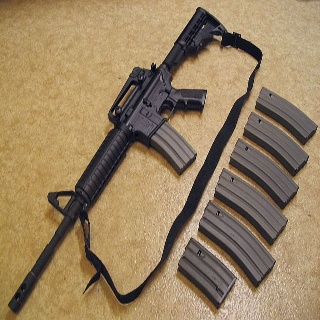rifle: (8, 6, 226, 313)
